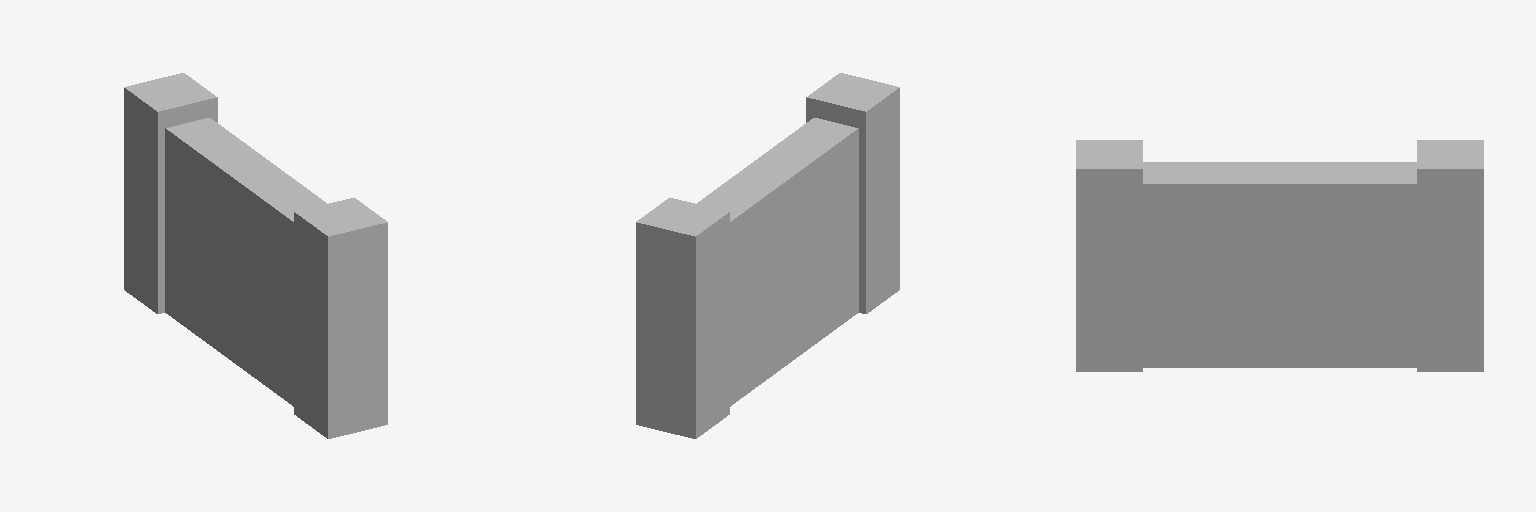
File: wall.obj
3 views of the same model, side by side, from view 1: azimuth 30°, elevation 25°; view 2: azimuth 150°, elevation 25°; view 3: azimuth 270°, elevation 25° (orthographic).
Visible parts, largest first — view 1: Cube.005; view 2: Cube.005; view 3: Cube.005.
Part boxes in pixels (x1,y1,x2,y2): Cube.005: (124, 73, 387, 438); Cube.005: (636, 73, 899, 438); Cube.005: (1076, 140, 1483, 371).
Bounding box in the file's own units: 0.2357 × 0.7626 × 1.39.